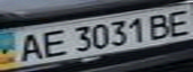0: (90, 20, 112, 51)
1: (124, 15, 151, 44)
3: (69, 24, 93, 53), (109, 18, 130, 47)
A: (9, 30, 48, 63)
B: (145, 11, 175, 40)
E: (36, 26, 69, 59), (163, 7, 193, 38)
